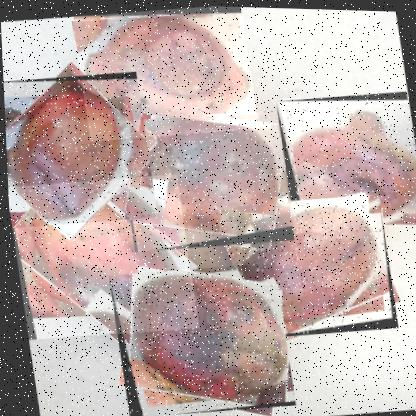pomegranate_rotten: (6, 167, 196, 344), (103, 255, 293, 415), (112, 103, 293, 255), (219, 187, 396, 342), (69, 2, 259, 144), (2, 65, 157, 232), (272, 84, 415, 234)
